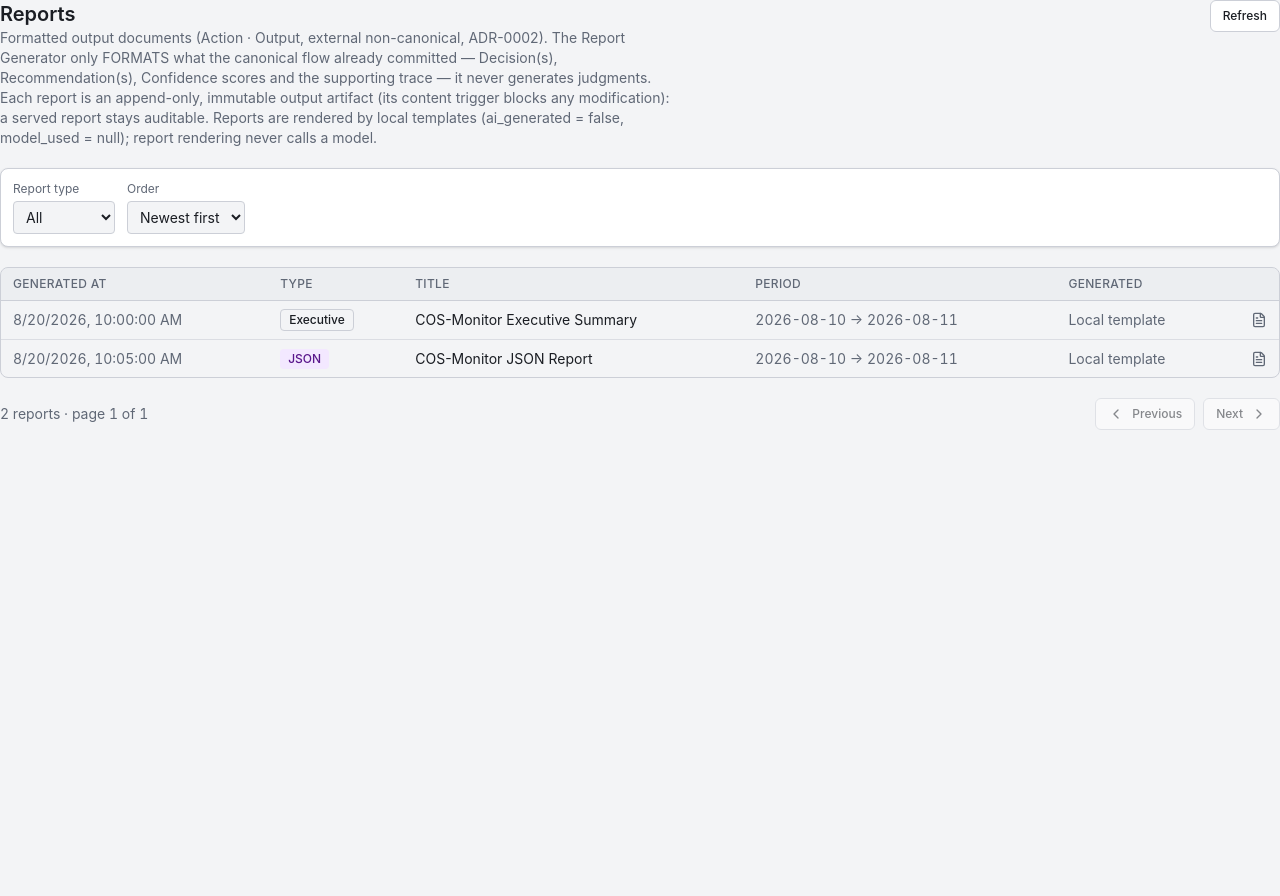
Scenario: ReportsPage › opens the detail drawer with the rendered content and tenant header
Click the text "COS-Monitor Executive Summary" at (573, 320), box [403,300,743,340]
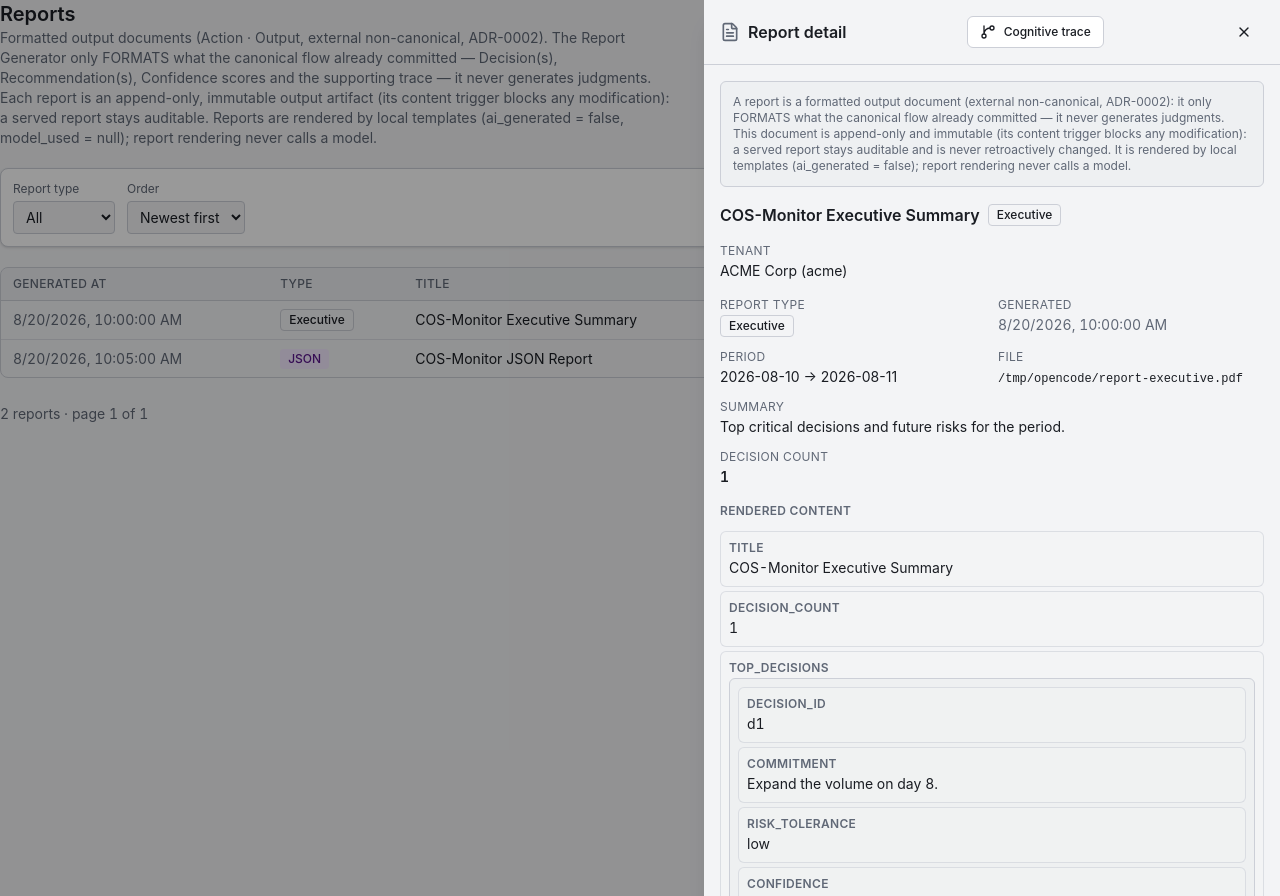
Now the text "ACME Corp (acme)" is shown, box [720,262,847,279]
Now the heading "Rendered content" is shown, box [720,503,851,518]
Now the text "decision_count" is shown, box [729,600,840,615]
